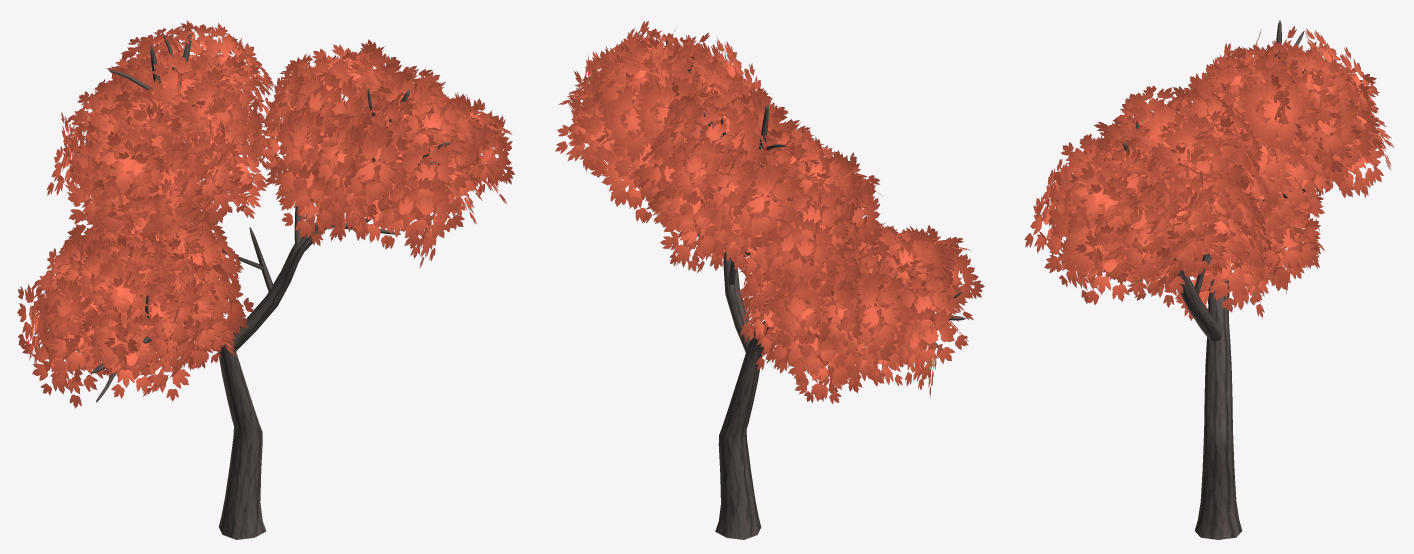
File: MapleTree_5.glb
3 renders of one model, left to right at view 1: azimuth 30°, elevation 25°; view 2: azimuth 150°, elevation 25°; view 3: azimuth 270°, elevation 25°, orthographic. The views are drawn at different scales.
Size of the model in its own units: 7.01 by 7.28 by 5.08.
2 materials, 2 textured.
